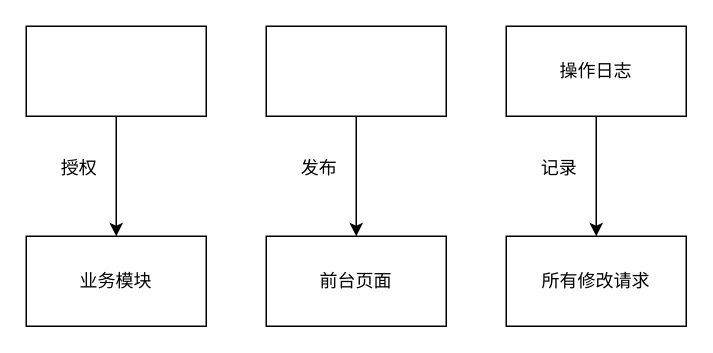
The diagram is 713 pixels wide and 353 high, and some of its shapes have lost their labels. The centre of each missing label's shape, as x and y in pixels:
文章栏目: the point at 355,70
账号模块: the point at 115,70
